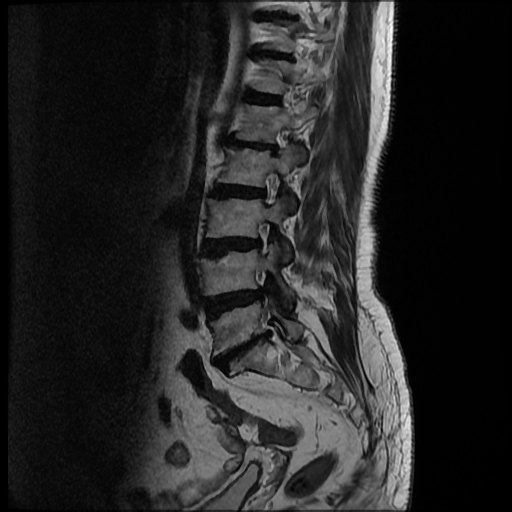RFS0: (247, 210, 281, 260), (252, 162, 287, 210)
